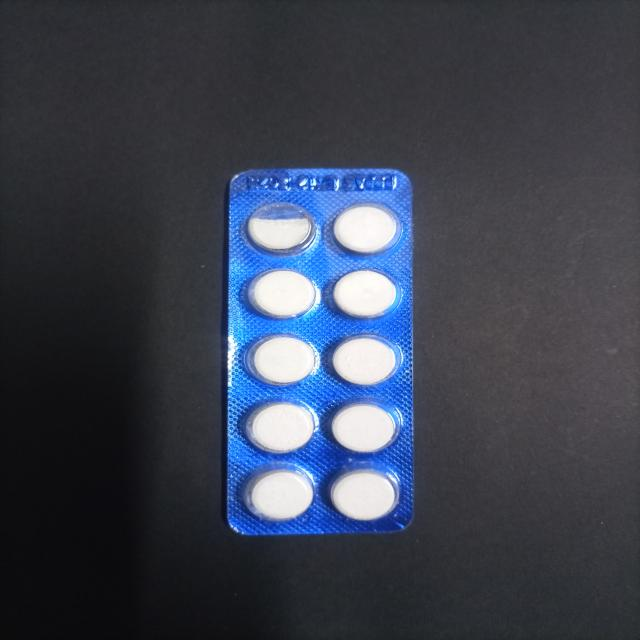defect: (242, 199, 318, 257)
